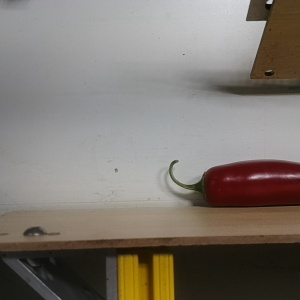Cut Point: (192, 165, 221, 207)
